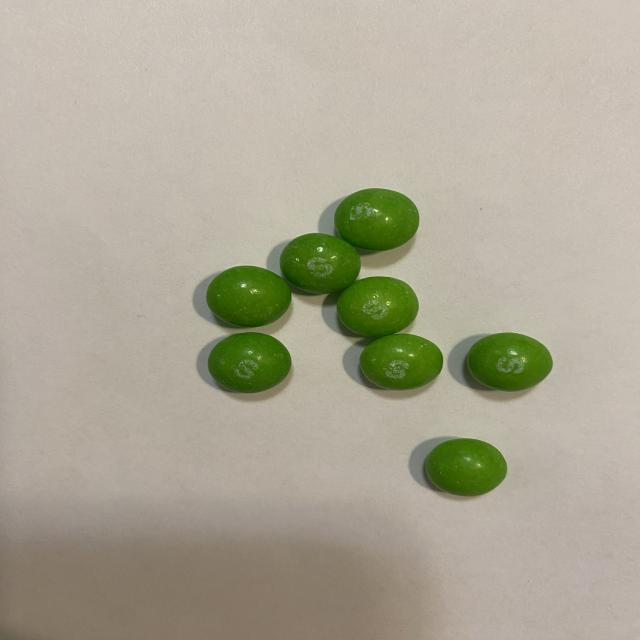smartie: (334, 188, 419, 251), (206, 265, 291, 327), (207, 332, 291, 393), (467, 333, 553, 392), (279, 233, 360, 294), (337, 276, 419, 336), (426, 439, 507, 497), (360, 334, 443, 390)
